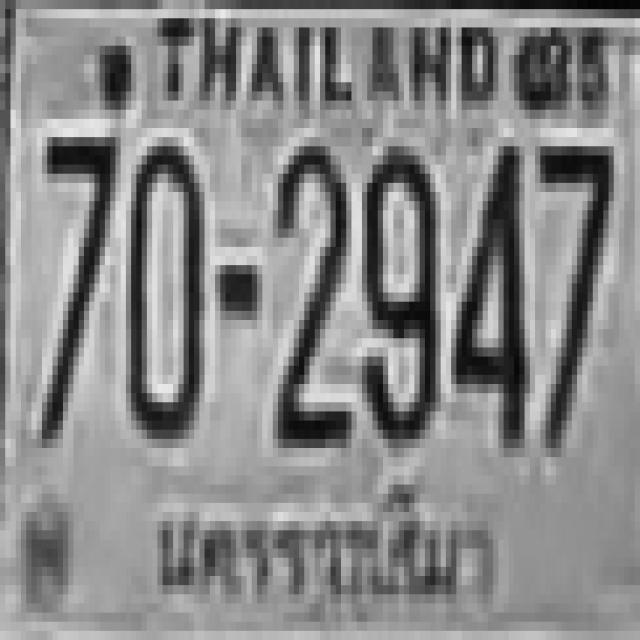0: (126, 137, 199, 430)
2: (273, 137, 346, 439)
4: (451, 137, 525, 439)
7: (42, 128, 115, 439), (535, 142, 609, 443), (535, 137, 609, 375)
9: (357, 137, 435, 439)
NakhonRatchasima: (159, 478, 500, 616)
